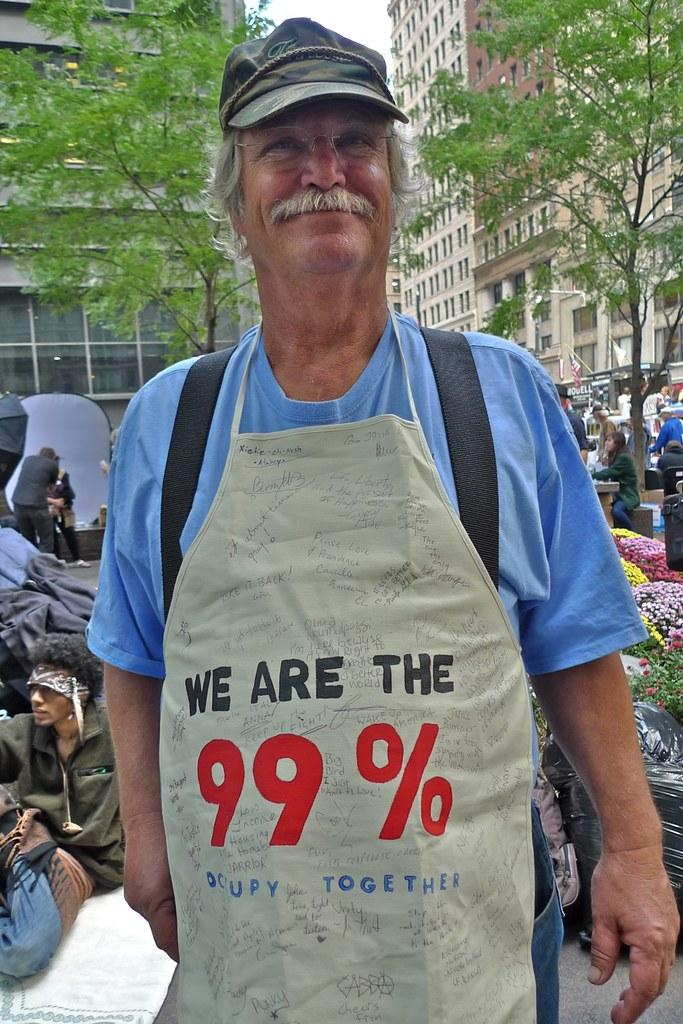Hat: (219, 12, 412, 132)
